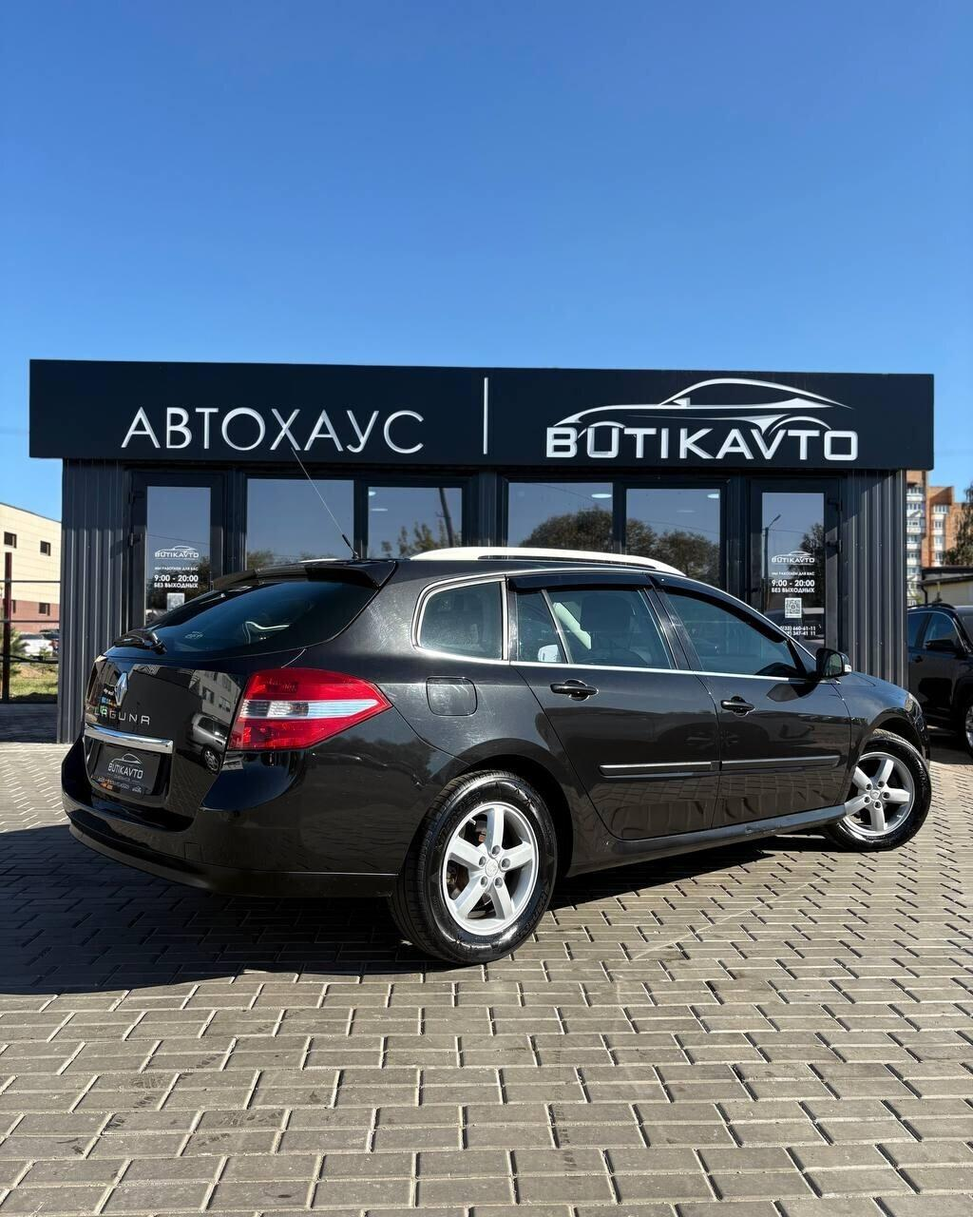Laguna_2007-2011: (62, 548, 930, 963)
